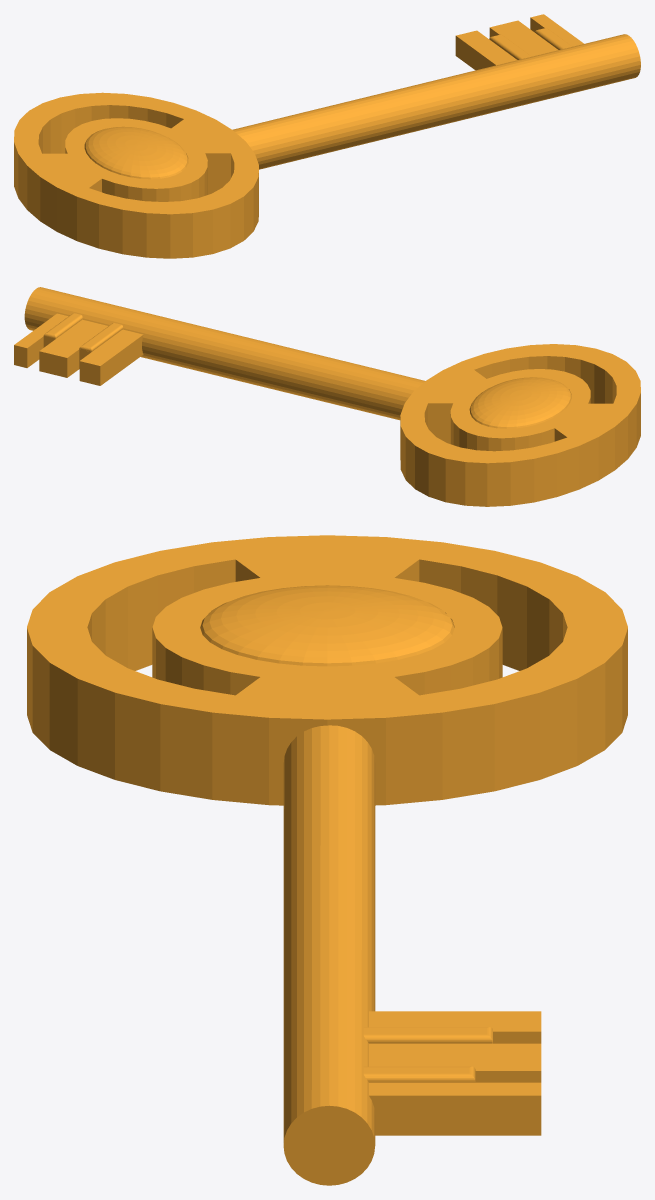
File: BreinEma_4E_Llave.fbx.fbx
3 views of the same model, one above another, from view 1: azimuth 30°, elevation 25°; view 2: azimuth 150°, elevation 25°; view 3: azimuth 270°, elevation 25° (orthographic). The views are drawn at different scales.
Parts seen in each view (by area): view 1: Cylinder; view 2: Cylinder; view 3: Cylinder.
Part boxes in pixels (left/top/right/bottom): Cylinder: left=14, top=14, right=640, bottom=258; Cylinder: left=14, top=287, right=640, bottom=506; Cylinder: left=27, top=535, right=627, bottom=1185.
Bounding box in the file's own units: 20 × 2 × 9.
1 material, 1 textured.
